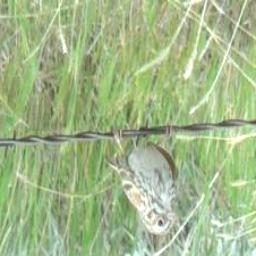Sparrow: (104, 125, 181, 240)
